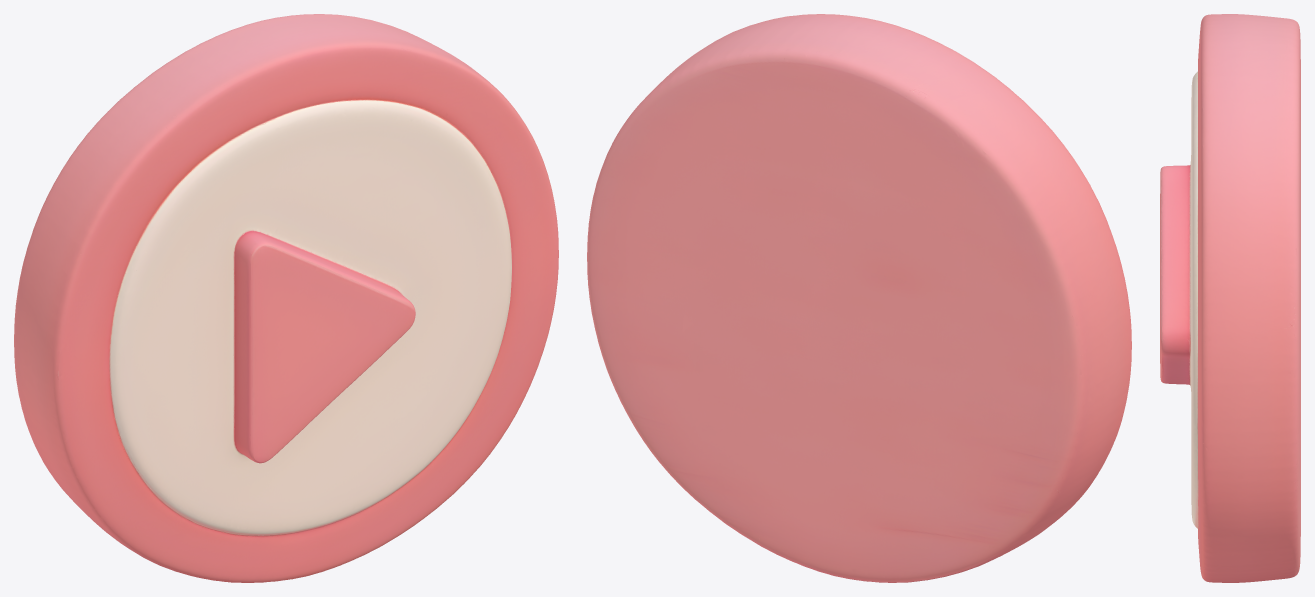
Rendered from start.glb.
3 views of the same model, side by side, from view 1: azimuth 30°, elevation 25°; view 2: azimuth 150°, elevation 25°; view 3: azimuth 270°, elevation 25° (orthographic). The views are drawn at different scales.
Visible parts, largest first — view 1: model; view 2: model; view 3: model.
Part boxes in pixels (bbox=[...]): model: bbox=[14, 14, 558, 582]; model: bbox=[587, 14, 1131, 582]; model: bbox=[1160, 14, 1300, 582].
Size of the model in its own units: 1.9 by 1.9 by 0.4711.
1 material, 1 textured.
